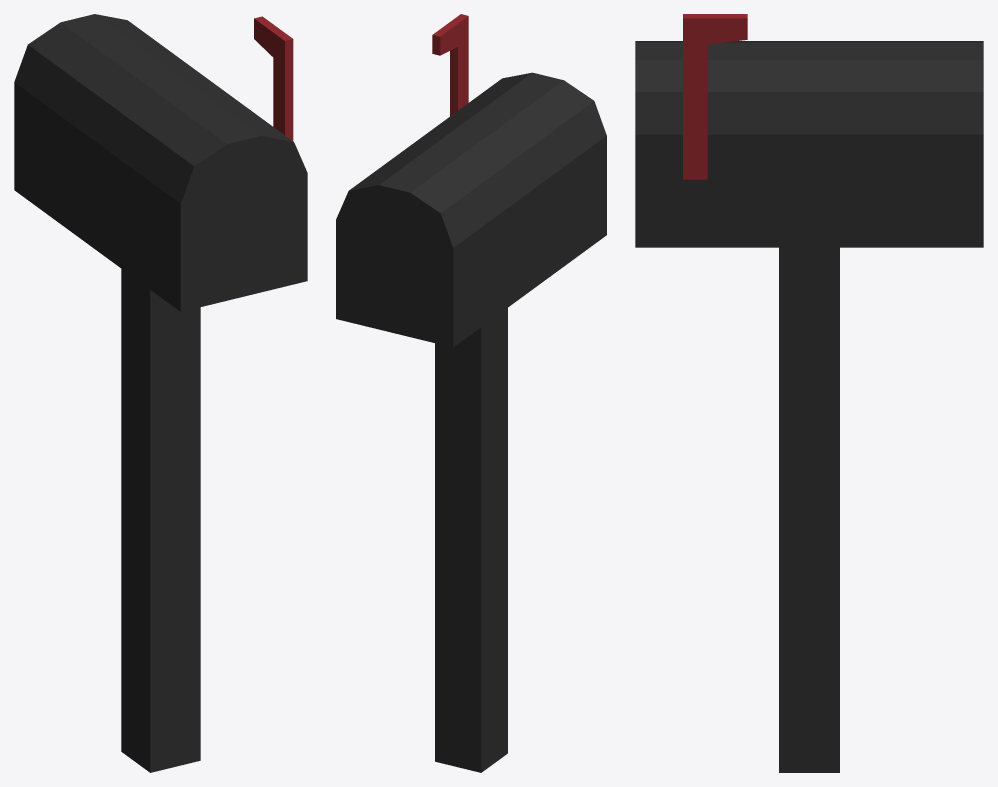
File: Mailbox.fbx
3 renders of one model, left to right at view 1: azimuth 30°, elevation 25°; view 2: azimuth 150°, elevation 25°; view 3: azimuth 270°, elevation 25°, orthographic. The views are drawn at different scales.
Visible parts, largest first — view 1: Cube, Plane; view 2: Cube, Plane; view 3: Cube, Plane.
Part boxes in pixels (x1,y1,x2,y2): Cube: (14,14,307,772); Plane: (254,16,293,140); Cube: (336,72,606,772); Plane: (432,14,468,116); Cube: (635,41,983,772); Plane: (683,14,747,179).
Bounding box in the file's own units: 70.05 × 368 × 149.
